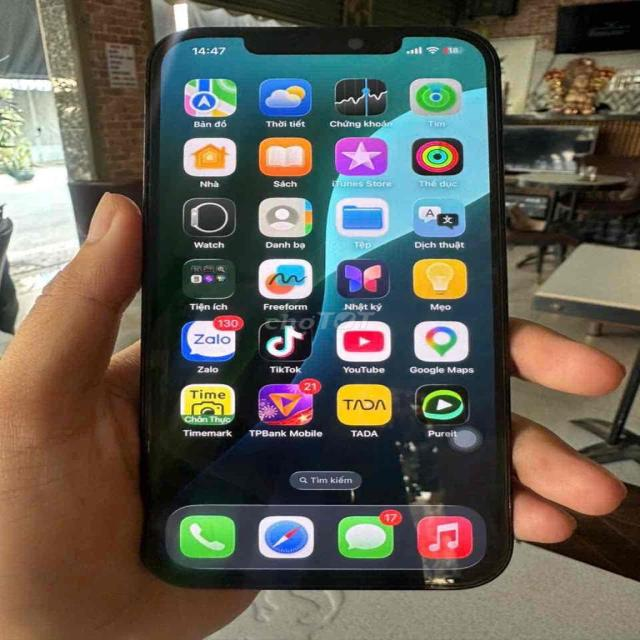gen_12_13: (128, 28, 536, 596)
